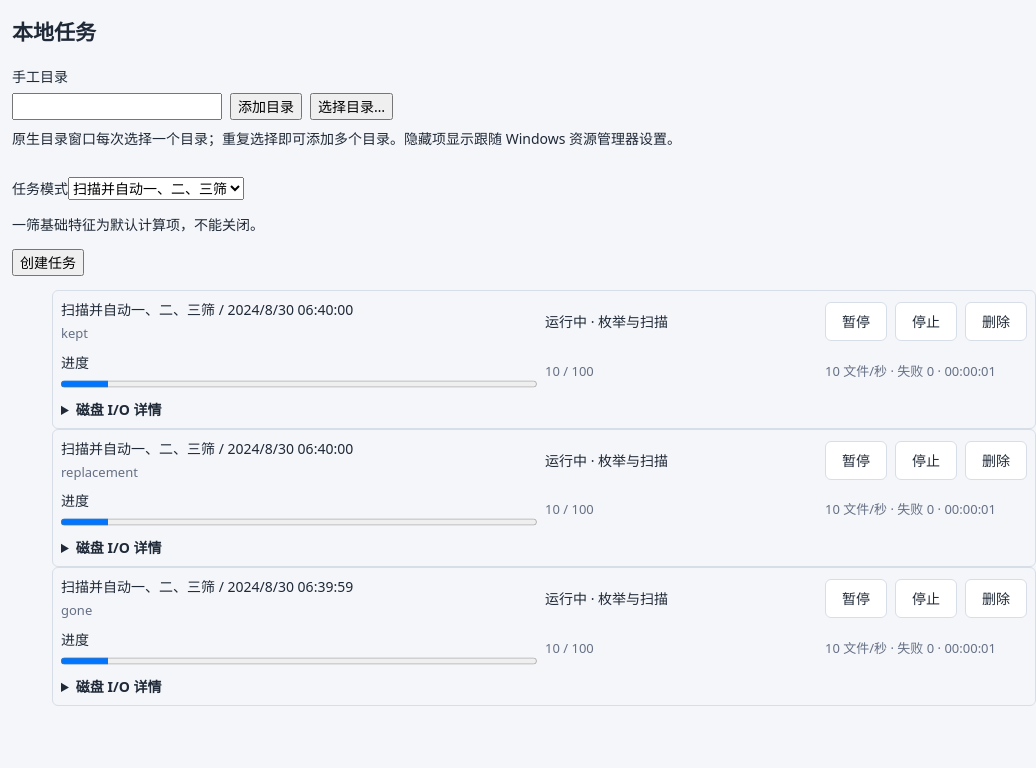
Test: 自适应轮询与列表世代 › 成功列表保留同实例较高 revision，同时仍权威删除消失任务并替换新实例
Click the button "暂停" in the row of "kept" at (856, 322), box [825,302,887,341]
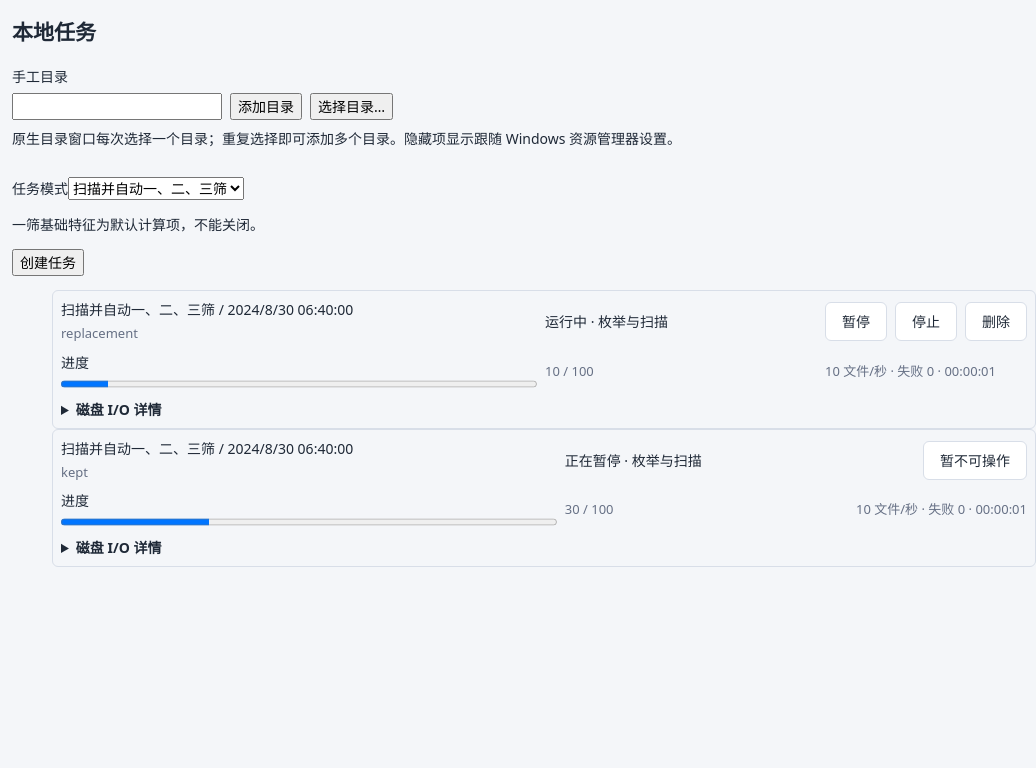
Result: the text "30 / 100" is shown at [565,500,614,518]
Result: the text "正在暂停" is shown at [565,451,621,470]
Result: the text titled "gone" is gone
